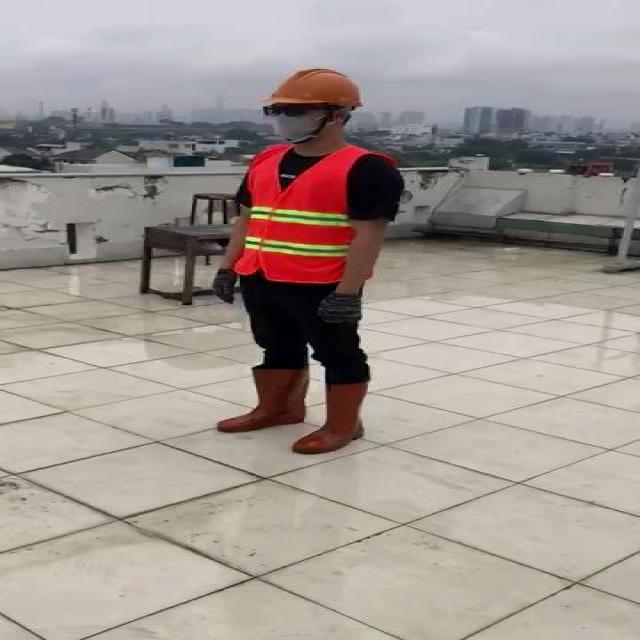boots: (292, 378, 372, 454), (213, 368, 310, 430)
face_mask: (264, 98, 333, 142)
glasses: (260, 100, 320, 120)
hand_glove: (315, 288, 368, 326), (213, 268, 240, 310)
head_helmet: (263, 66, 370, 110)
person: (211, 62, 409, 460)
vest: (238, 146, 384, 280)
